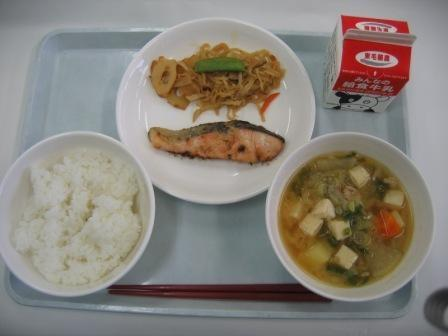Fish: (140, 115, 283, 168)
Milk: (323, 11, 415, 121)
Rice: (0, 132, 152, 292)
Soups: (267, 143, 424, 283)
pasta: (156, 32, 289, 121)
